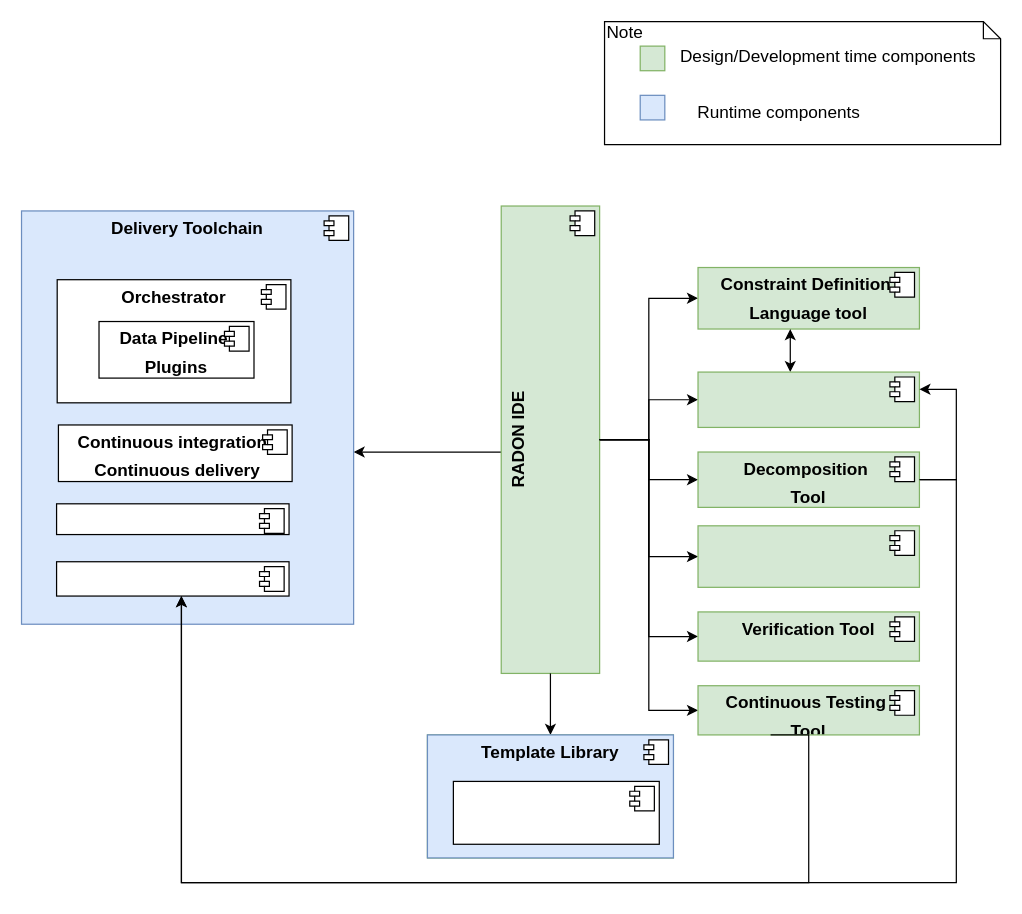
Some shapes in this 1022 by 914 pixel diagram are drawn without their labels. Here are the shapes that lost their labels. From the top down, the centre of each, then its label:
(x=808, y=399): Graphical Modelling Tool
(x=172, y=519): Function Hub
(x=808, y=556): Defect Prediction Tool
(x=172, y=578): Monitoring System
(x=555, y=812): FaaS abstraction layer
